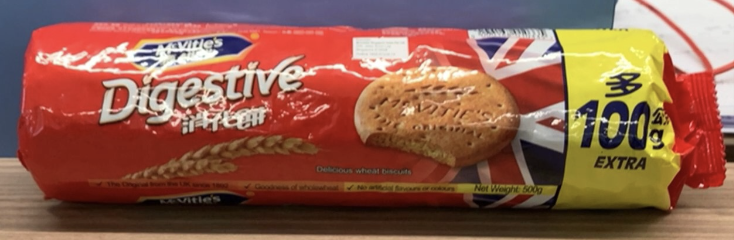cookies_550g: (58, 34, 680, 185)
